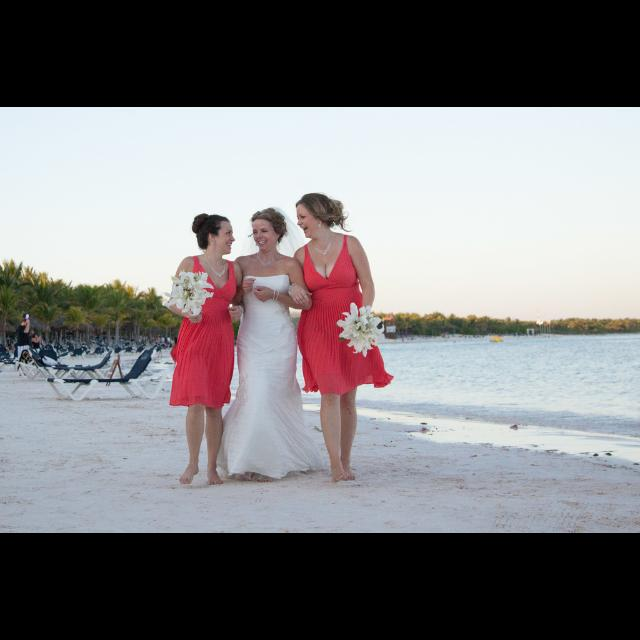Flower: (334, 304, 388, 361), (163, 270, 219, 316)
